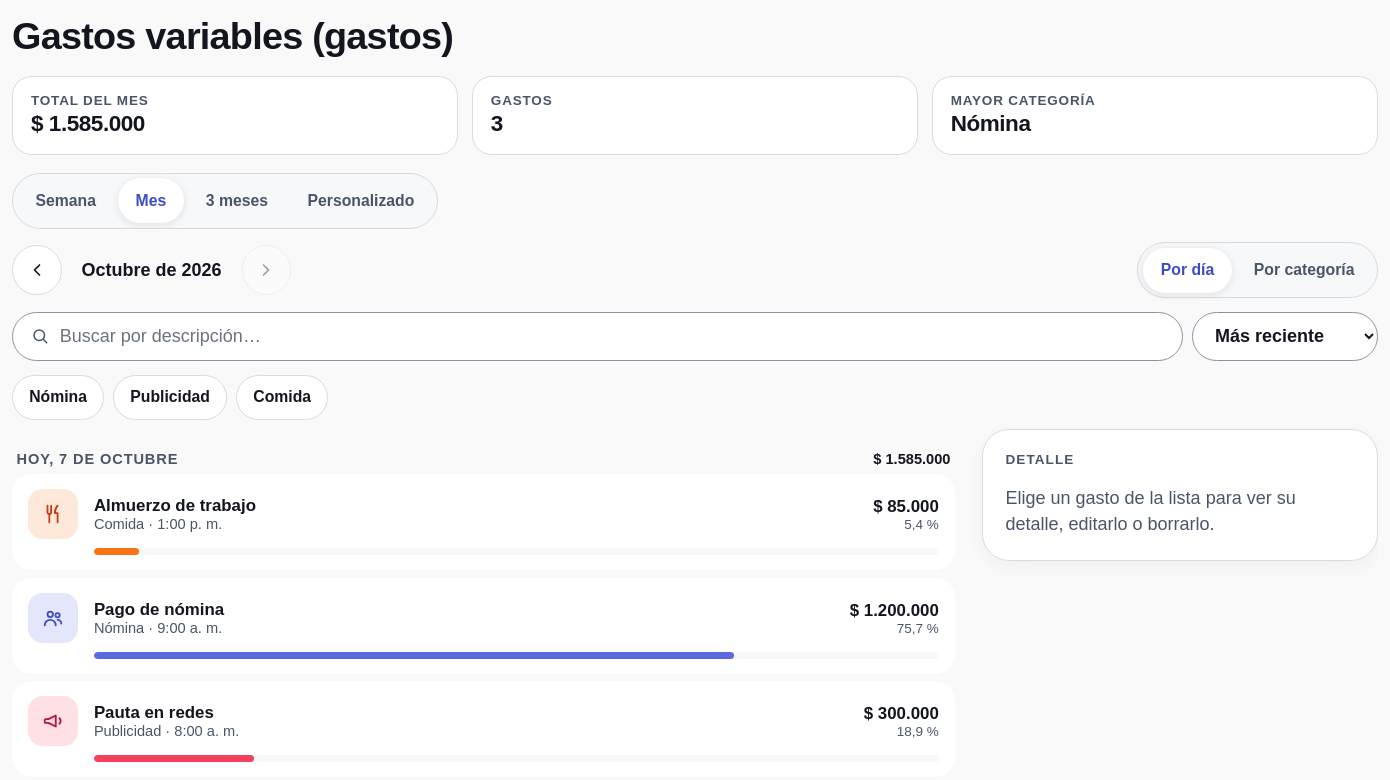
Test: PaginaLista › sin coincidencias muestra la ilustración y permite limpiar los filtros
In the search field named "Buscar gastos": [612, 336] box left=60, top=313, right=1164, bottom=360, type "zzzz"
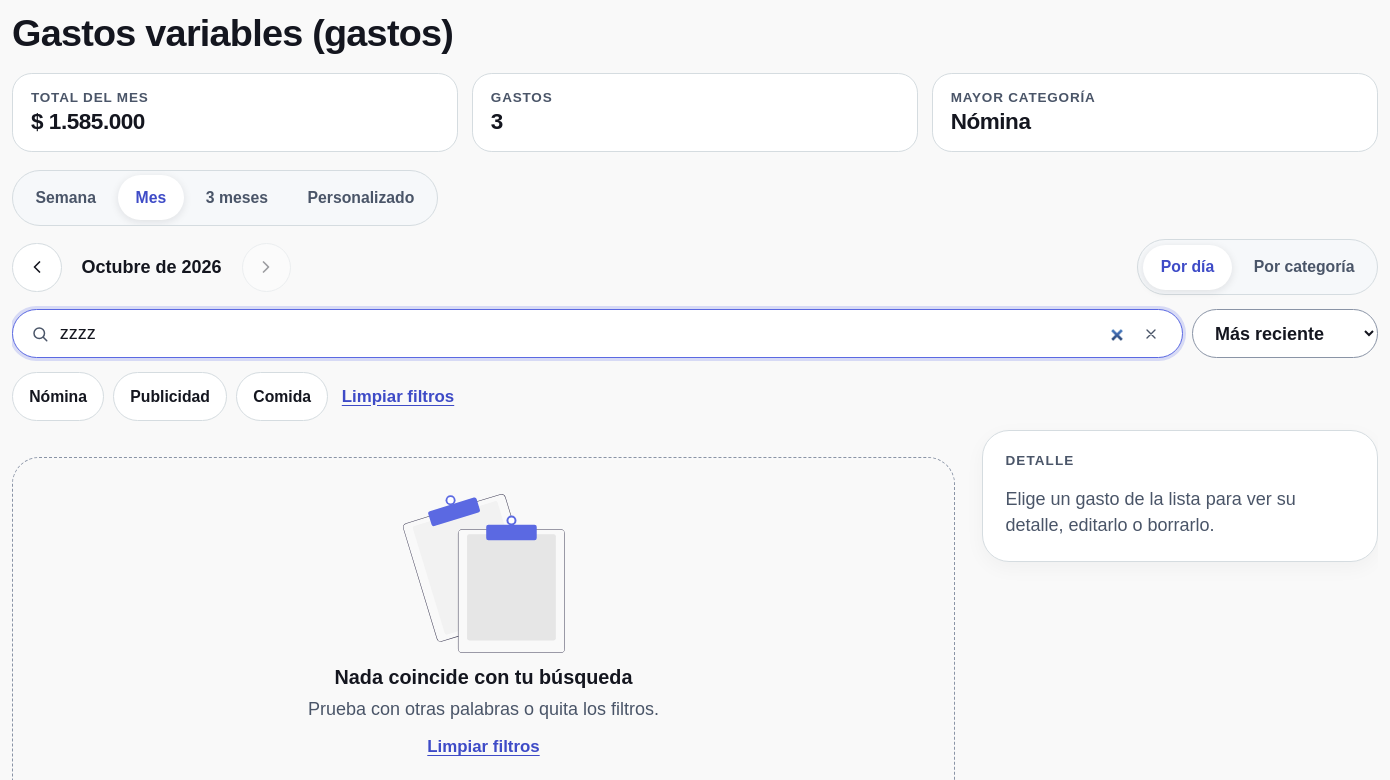
Expected: the text "Nada coincide con tu búsqueda" is shown, left=335, top=666, right=632, bottom=688
Click the 1st button "Limpiar filtros": [398, 397] box left=337, top=372, right=459, bottom=422
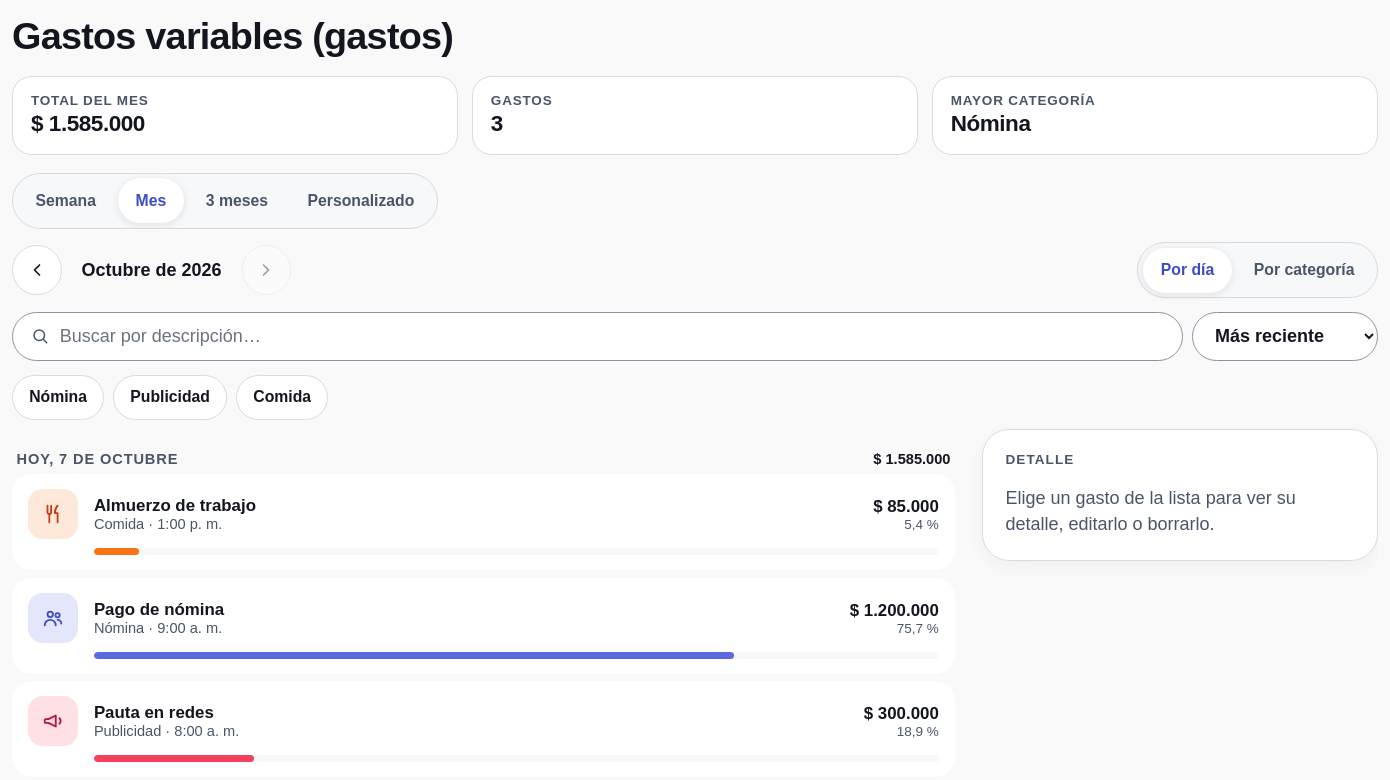
Expected: the text "Pago de nómina" is shown, left=94, top=600, right=224, bottom=619
